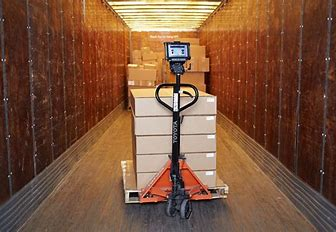Pallet Jack: (115, 39, 231, 220)
